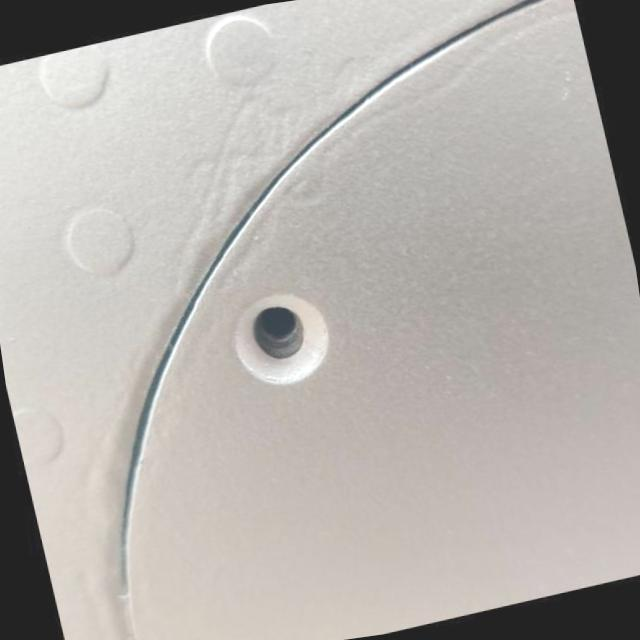Missing Fastener: (230, 288, 336, 390)
